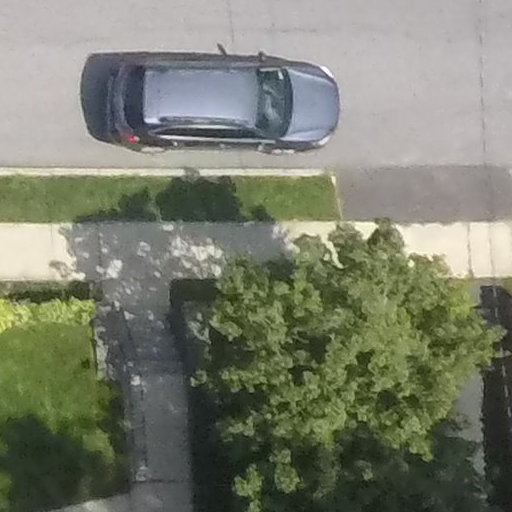car: (101, 35, 358, 162)
